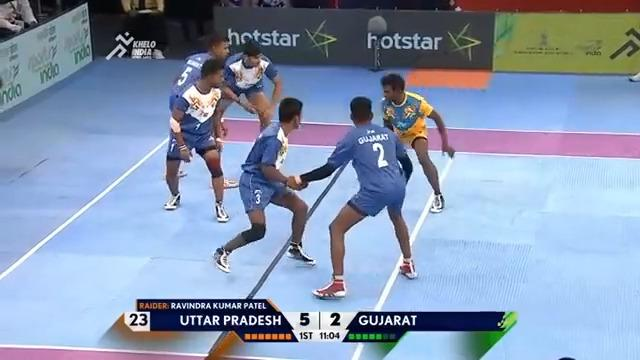Player: (287, 95, 418, 299), (210, 95, 317, 274), (163, 57, 257, 222), (168, 32, 233, 179), (216, 40, 282, 136)
Raider: (378, 72, 455, 213)
